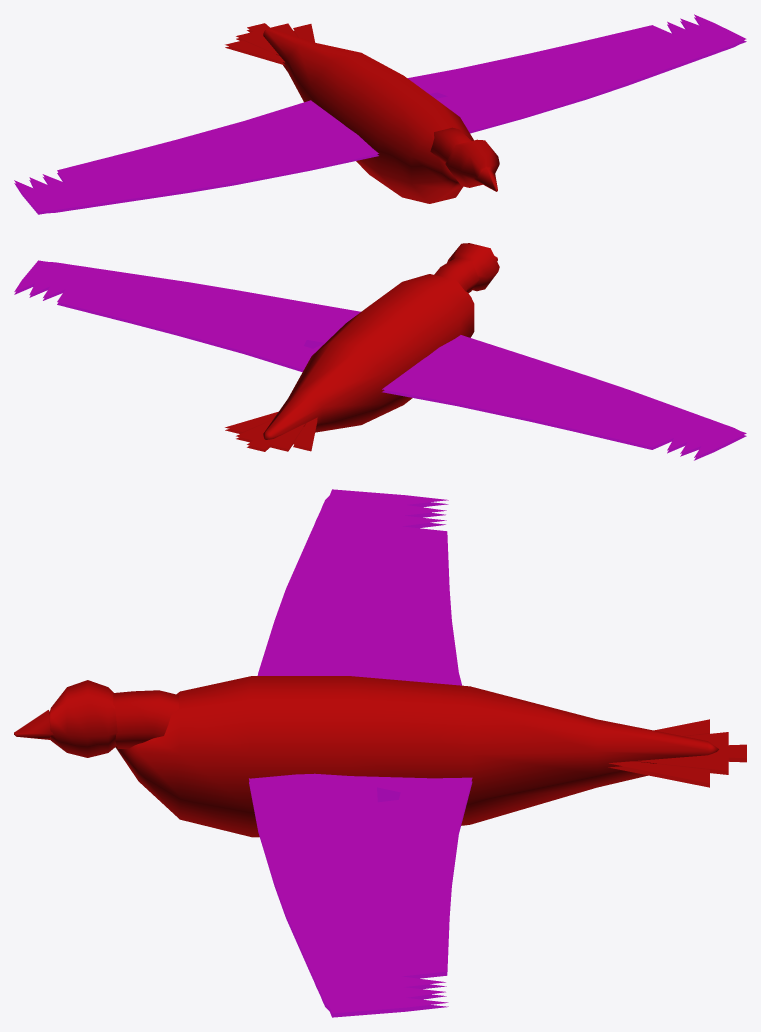
The model's file is pelican.glb.
3 views of the same model, one above another, from view 1: azimuth 30°, elevation 25°; view 2: azimuth 150°, elevation 25°; view 3: azimuth 270°, elevation 25° (orthographic). The views are drawn at different scales.
Parts seen in each view (by area): view 1: bird; view 2: bird; view 3: bird.
Part boxes in pixels (bbox=[...]): bird: bbox=[14, 14, 746, 214]; bird: bbox=[14, 243, 746, 460]; bird: bbox=[14, 489, 746, 1017].
Size of the model in its own units: 2.1 by 0.2578 by 1.24.
